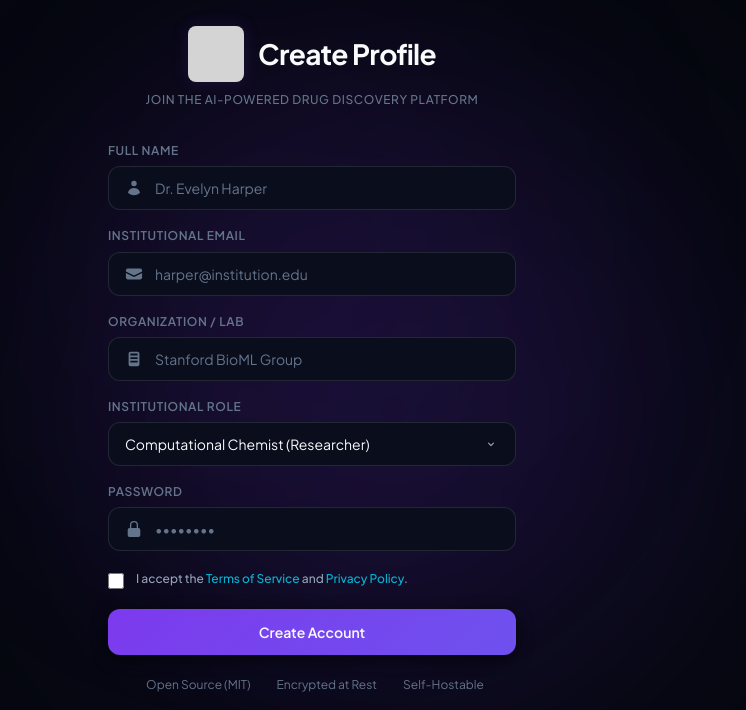
Test case: SignupPage › shows a stronger-password hint for short passwords
This screenshot has width=746, height=710.
Type "abc" into the password field labelled "Password". click: (312, 529)
box: left=109, top=508, right=515, bottom=550
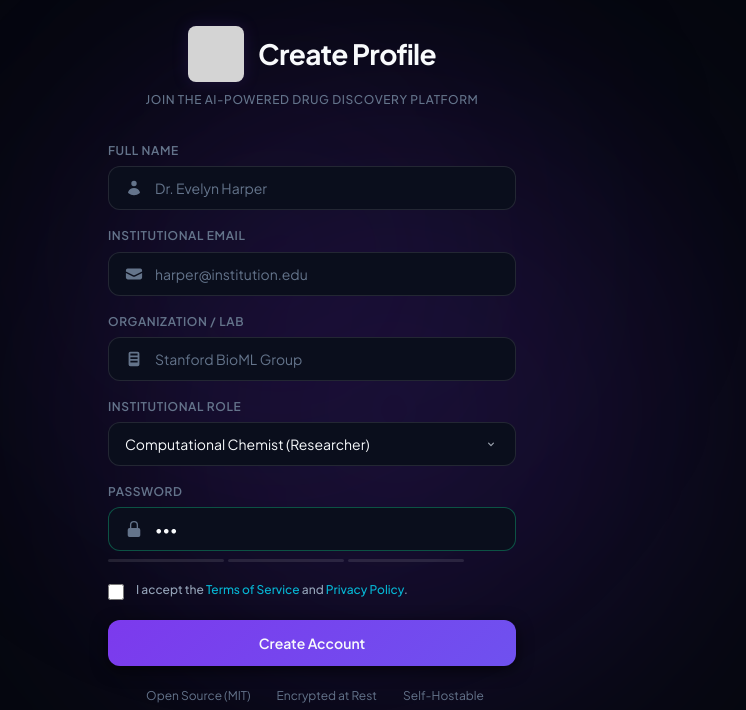
Leave the password field labelled "Password", box left=109, top=508, right=515, bottom=550
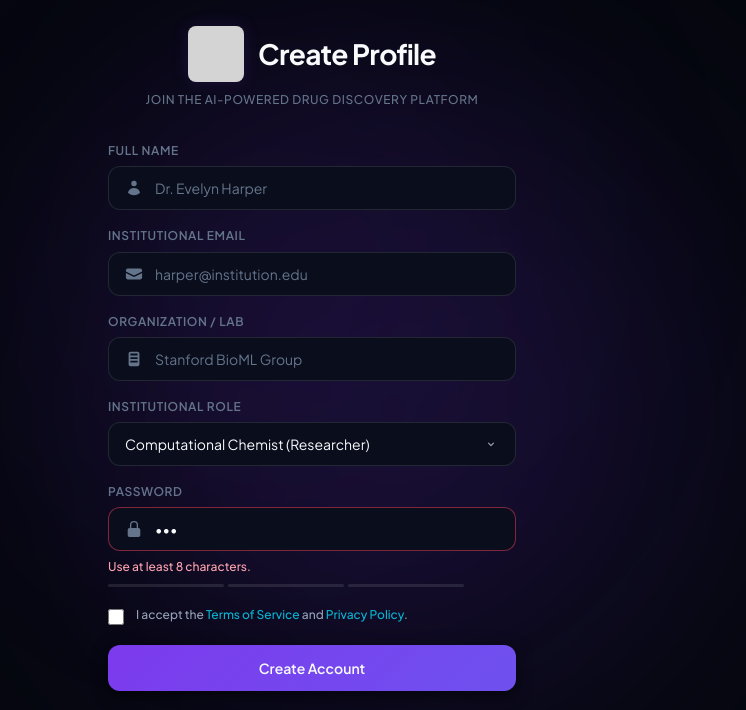
Result: the text "Use at least 8 characters." is shown at left=108, top=559, right=251, bottom=574
